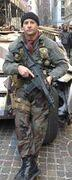gun: (23, 52, 56, 107)
